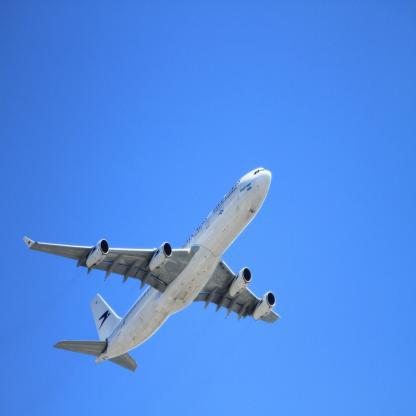CIV_Plane: (18, 162, 284, 376)
